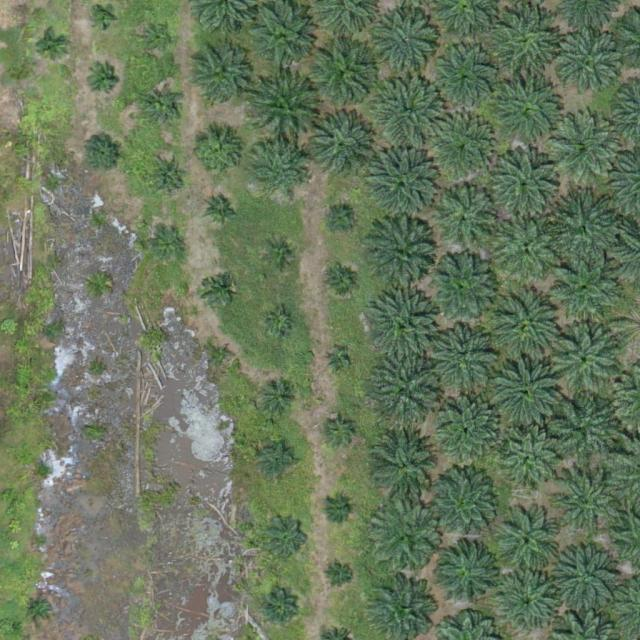Healthy: (486, 6, 564, 85), (493, 75, 571, 154), (483, 142, 561, 221), (376, 76, 447, 147), (370, 355, 441, 426), (370, 427, 441, 498), (552, 327, 623, 398), (556, 32, 626, 103), (309, 41, 379, 112), (251, 76, 321, 147), (249, 4, 319, 75), (305, 111, 375, 182), (369, 152, 439, 223), (369, 222, 439, 293), (434, 181, 504, 252), (425, 111, 495, 182), (495, 289, 565, 360), (492, 356, 562, 427), (547, 395, 618, 465), (550, 254, 620, 325), (546, 193, 617, 263), (550, 111, 620, 182), (552, 467, 622, 538), (428, 470, 498, 541), (372, 505, 442, 576), (370, 292, 440, 362), (429, 253, 499, 323), (493, 212, 563, 282), (439, 398, 502, 461), (555, 546, 618, 609), (433, 52, 495, 115), (378, 14, 440, 77), (189, 49, 251, 112), (437, 326, 499, 389), (500, 431, 562, 494), (498, 514, 560, 577), (499, 572, 561, 634), (439, 543, 501, 605), (252, 143, 307, 198)
Small: (190, 126, 244, 181), (264, 513, 311, 560), (149, 158, 189, 198), (83, 133, 123, 172), (261, 592, 300, 632), (261, 440, 300, 480), (146, 90, 185, 129), (261, 380, 300, 419), (204, 191, 243, 230), (35, 31, 66, 63), (88, 65, 119, 97), (325, 416, 356, 448), (323, 493, 354, 525), (154, 233, 185, 264), (201, 273, 232, 304), (265, 308, 296, 339), (266, 240, 297, 271), (142, 22, 173, 53), (325, 561, 356, 592), (326, 203, 357, 234), (327, 268, 358, 299), (26, 595, 57, 626), (92, 6, 116, 30), (212, 344, 236, 368), (326, 350, 350, 374)
